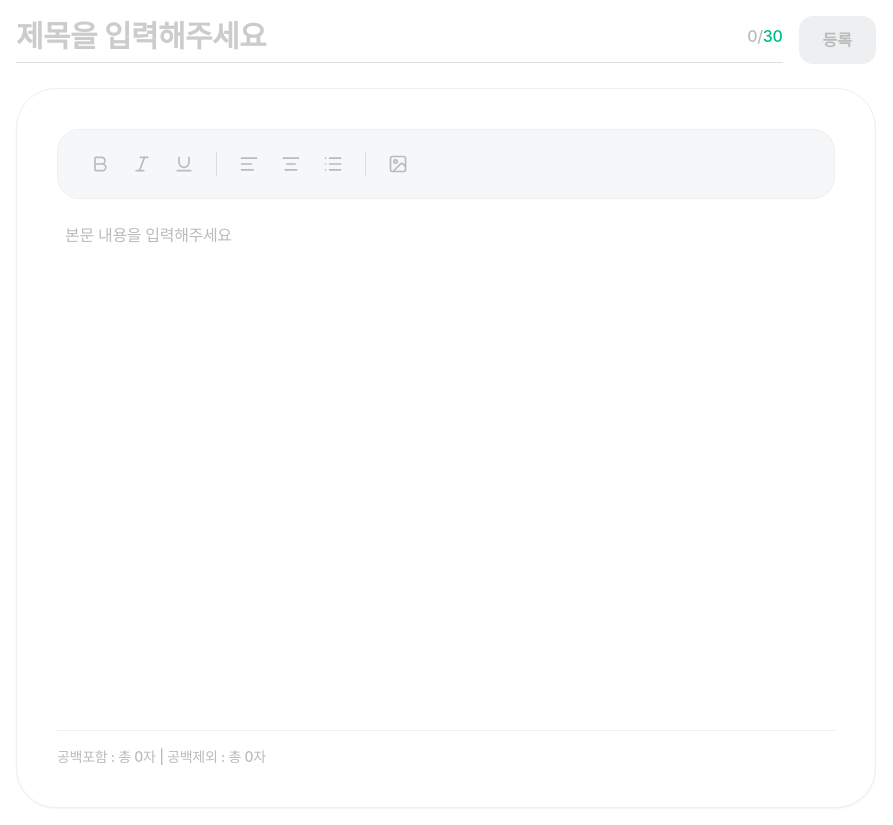
Scenario: PostForm 컴포넌트 › 제목 입력 시 실시간 글자수 카운터가 업데이트된다
The width and height of the screenshot is (893, 825).
Type "안녕하세요" into the field with placeholder "제목을 입력해주세요".
click(378, 36); type("안녕하세요")  # box [16, 18, 739, 54]
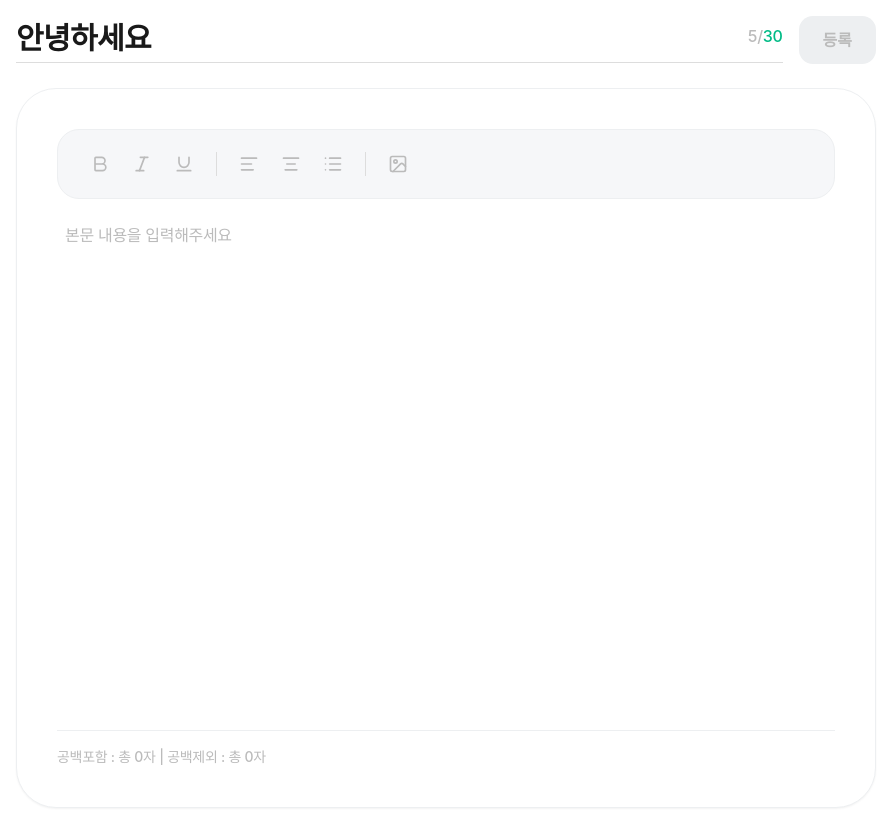
Check: the text "5/" is shown, box [748, 24, 763, 48]
